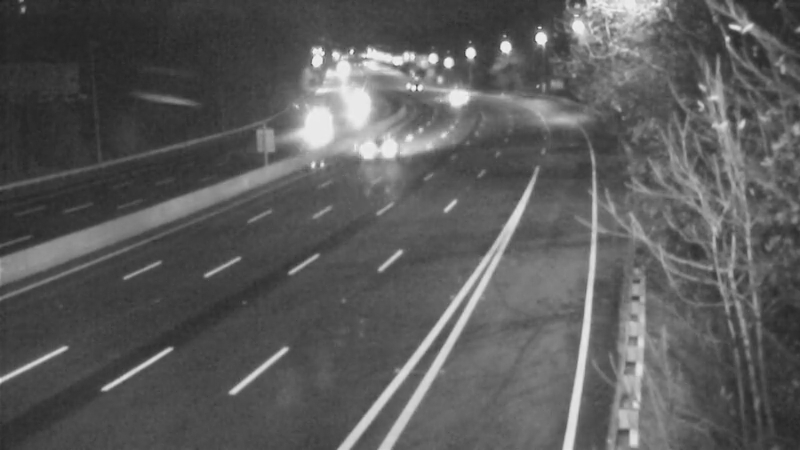vehicle: (387, 56, 437, 106), (430, 71, 480, 121), (363, 116, 413, 166), (291, 101, 341, 151), (335, 80, 385, 130)
